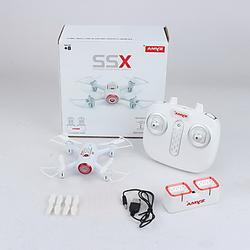drone: (40, 133, 136, 186), (69, 74, 161, 115)
